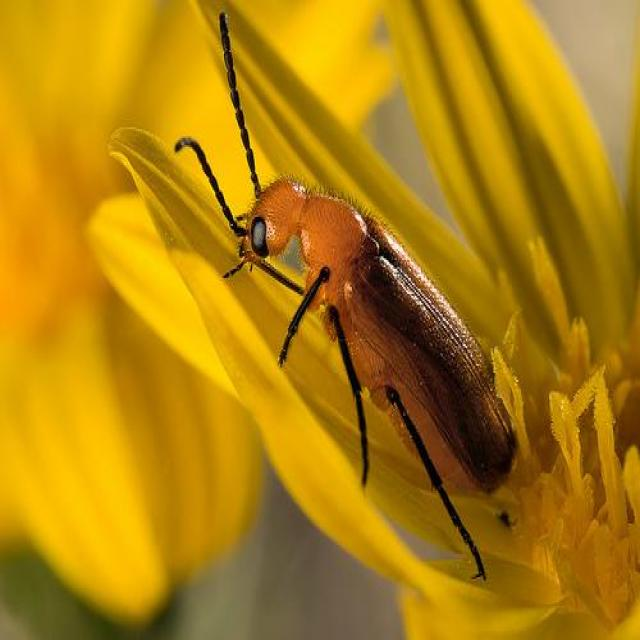BlisterBeetle-Adult-: (173, 7, 520, 580)
